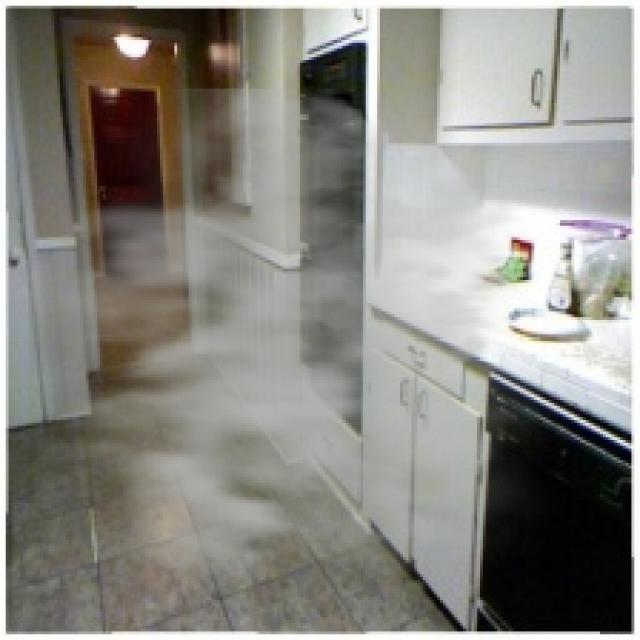Smoke: (28, 89, 586, 620)
